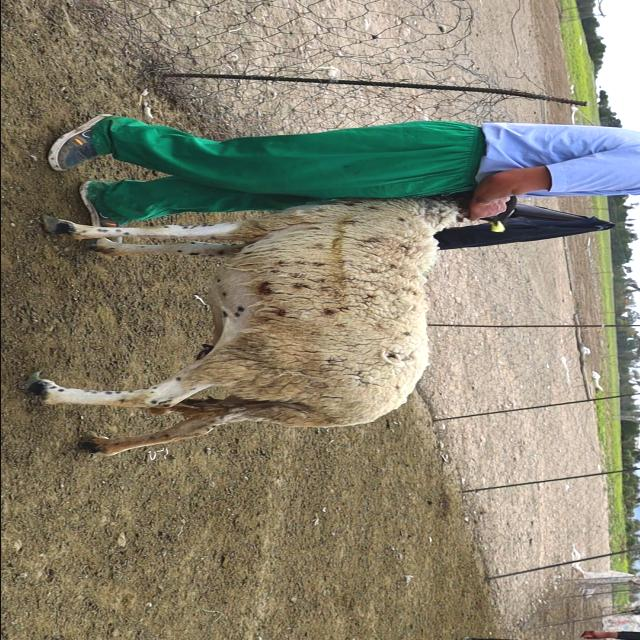Score_5: (27, 192, 470, 456)
